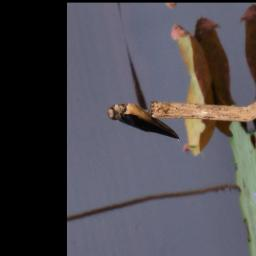Swallow: (106, 89, 183, 157)
